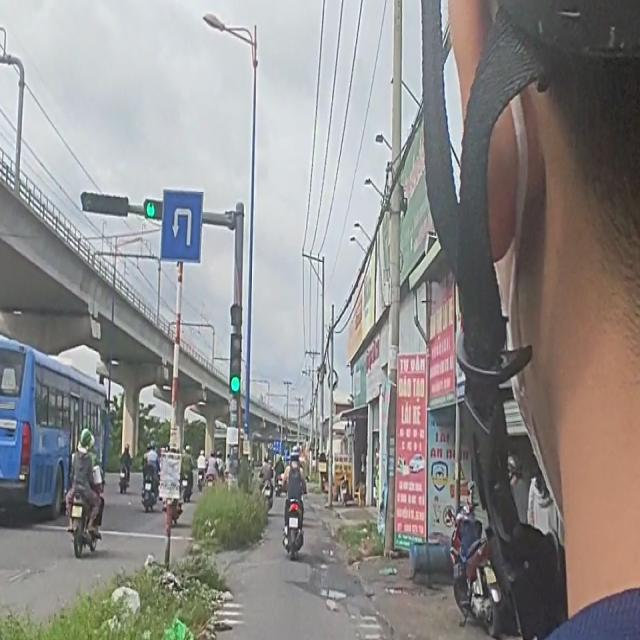Bien bao cho quay xe: (162, 188, 206, 266)
